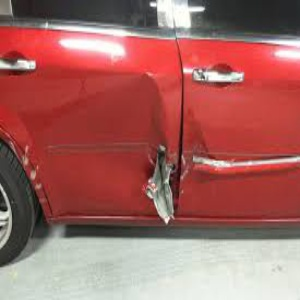door: (73, 98, 300, 216)
